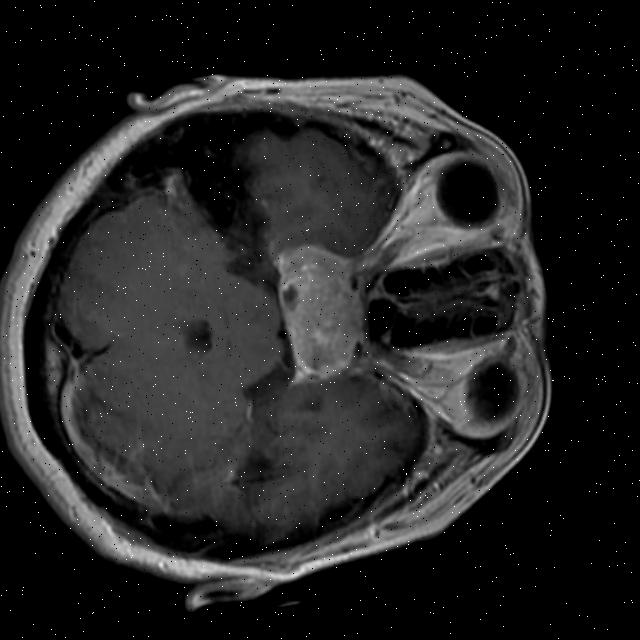Pituitary: (266, 253, 377, 383)
